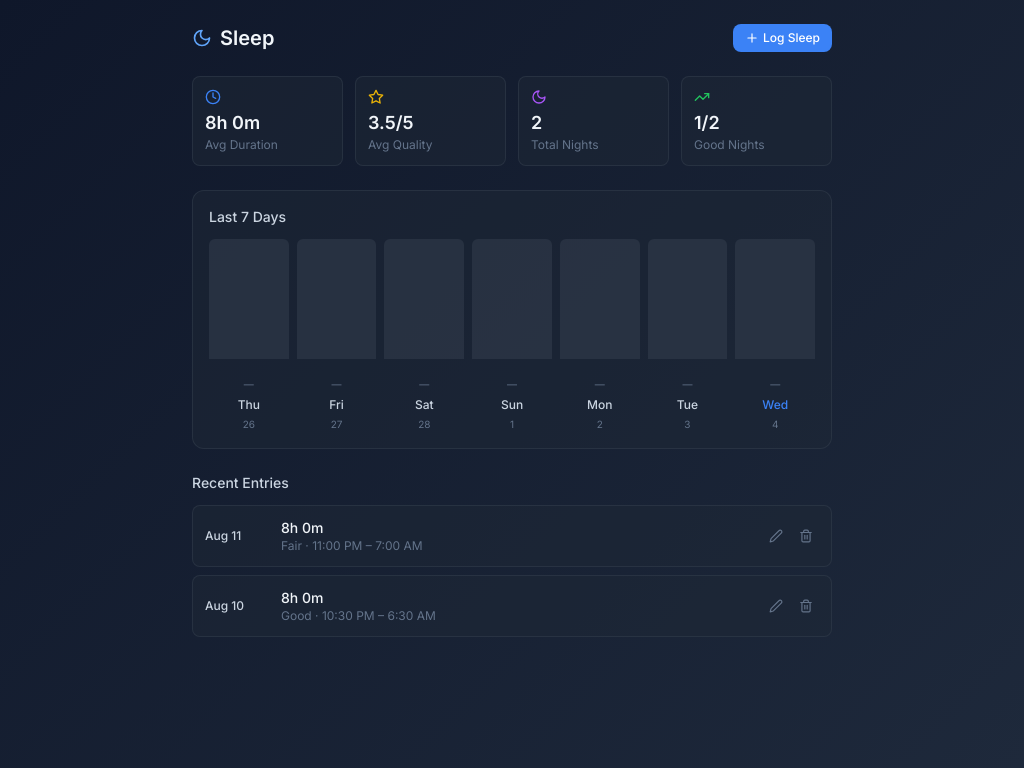
Scenario: SleepPage › opens modal when Log Sleep is clicked
Click the button (first one is the header button)
Click the button "Log Sleep": (782, 38) [733,24,832,52]
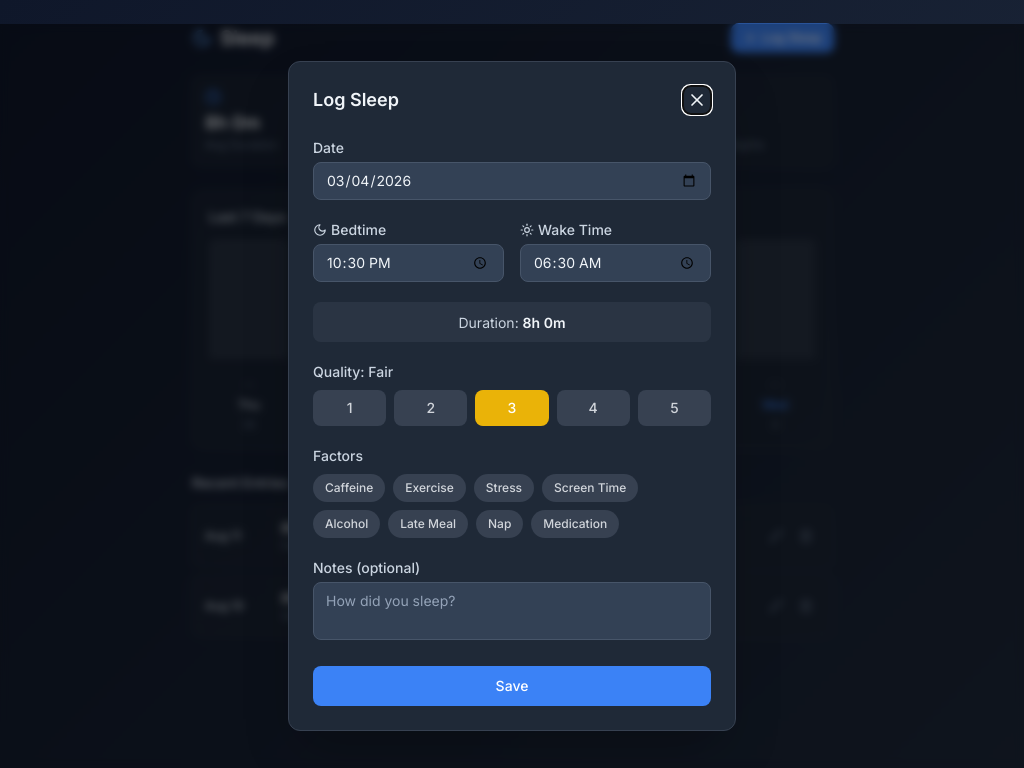
Expected: the heading "Log Sleep" is shown, [313,86,399,114]
